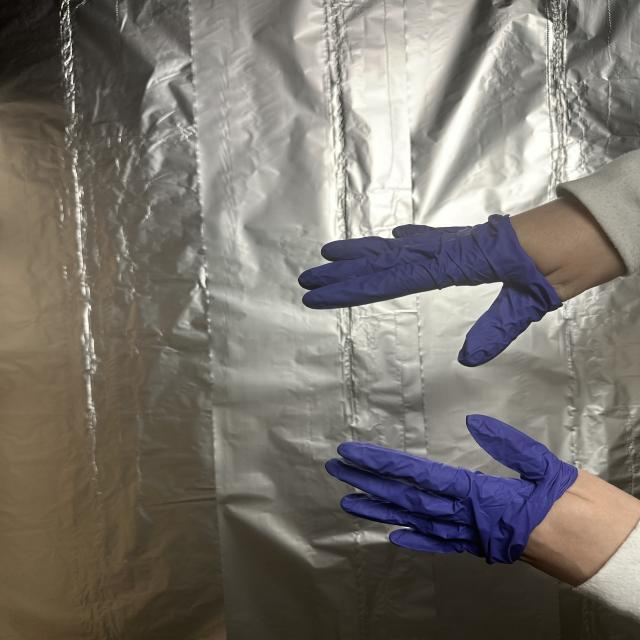glove_partial: (296, 191, 626, 369), (323, 412, 639, 590)
